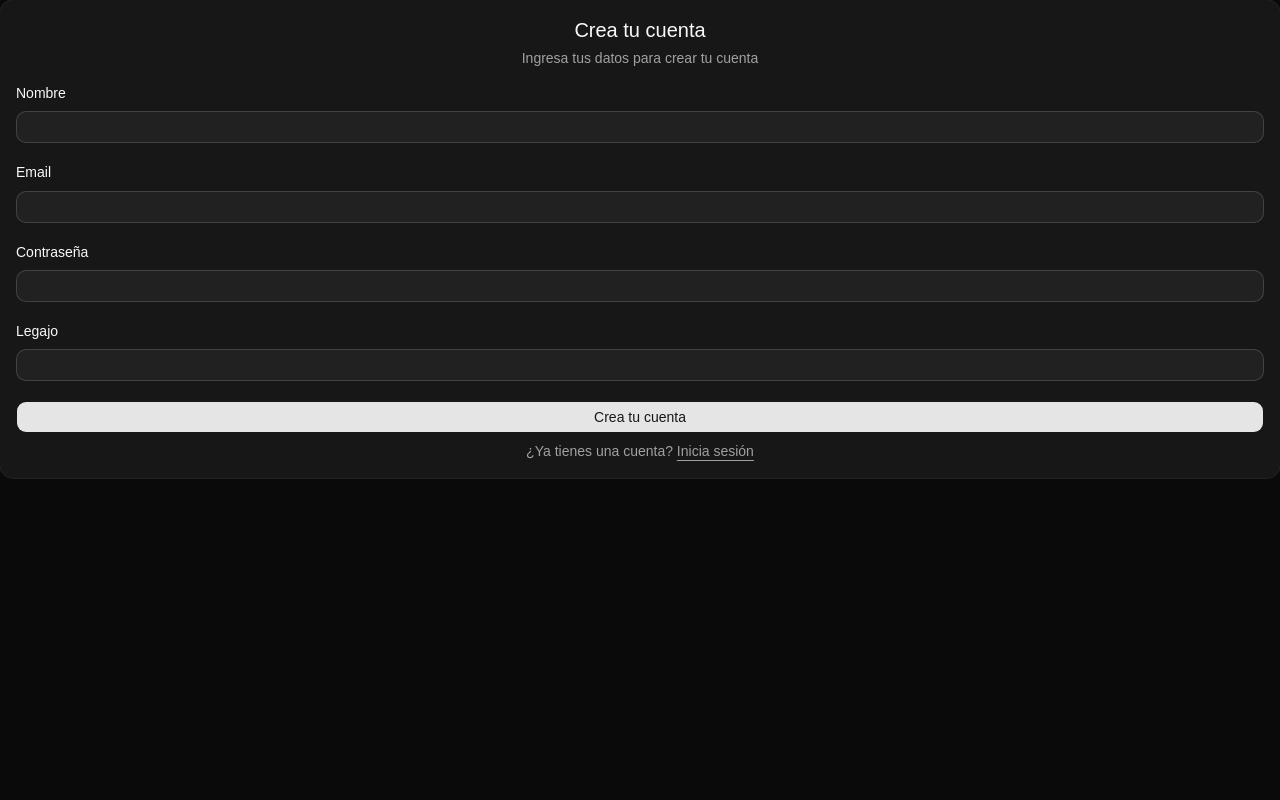
Test: valida las reglas de longitud mínima para contraseña y legajo
Step 1. Type "123" into the password field named "password" → (640, 286), box left=16, top=270, right=1264, bottom=302
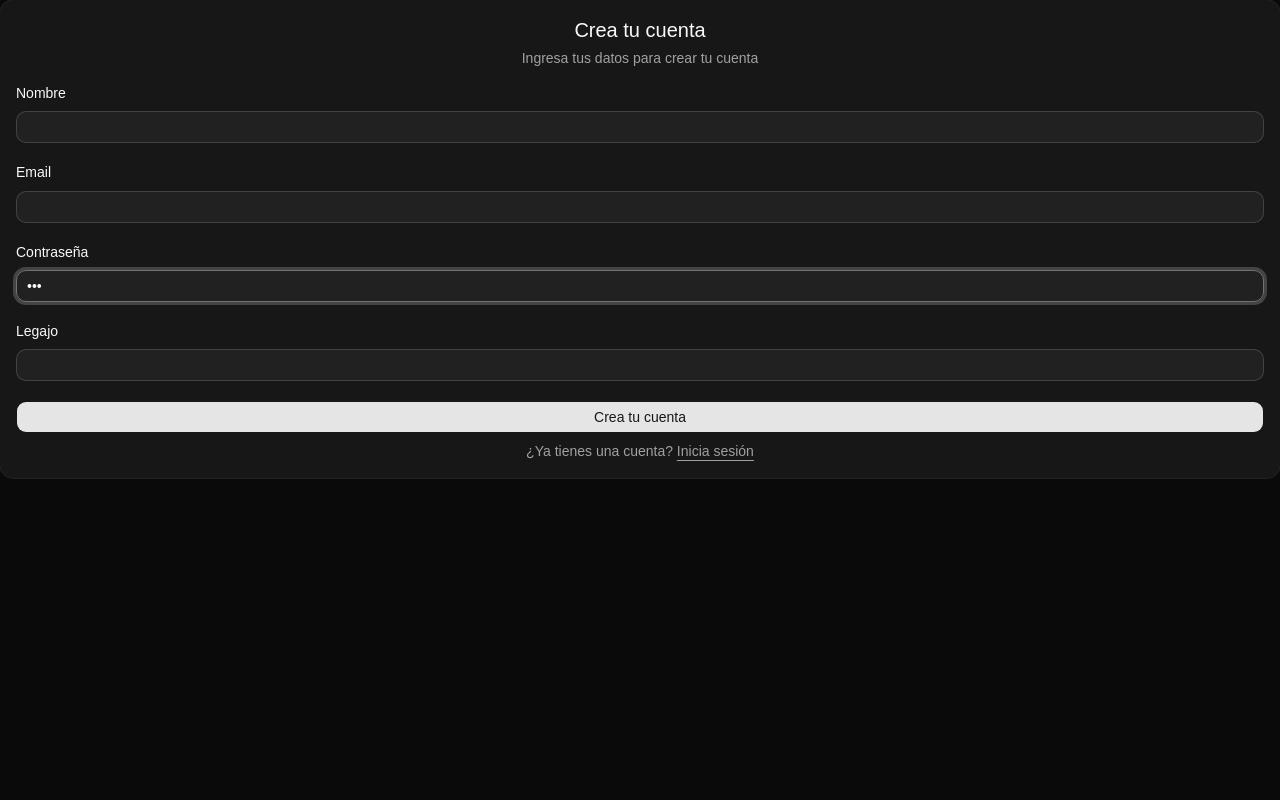
Step 2. Type "12" into the field named "legajo" below "Legajo" → (640, 365), box left=16, top=349, right=1264, bottom=381
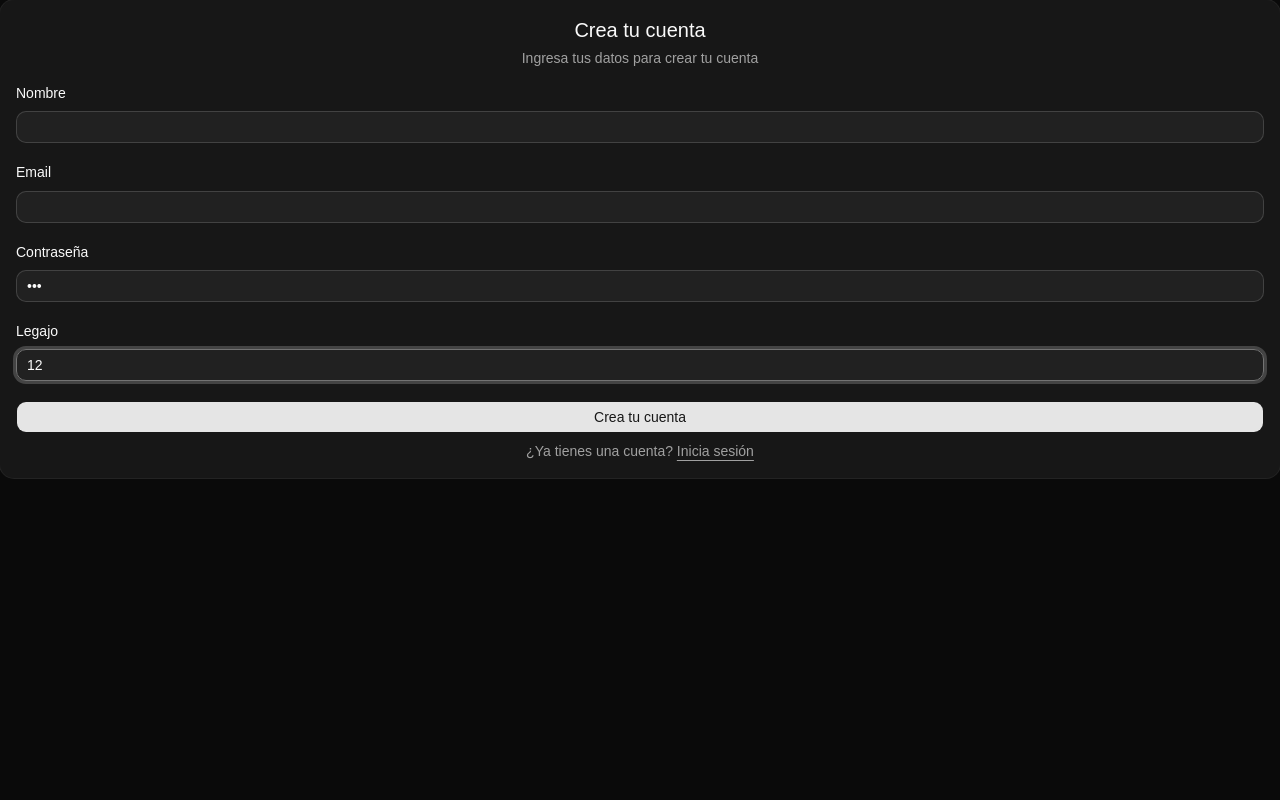
Step 3. Click the button "Crea tu cuenta" → (640, 417), box left=16, top=401, right=1264, bottom=433
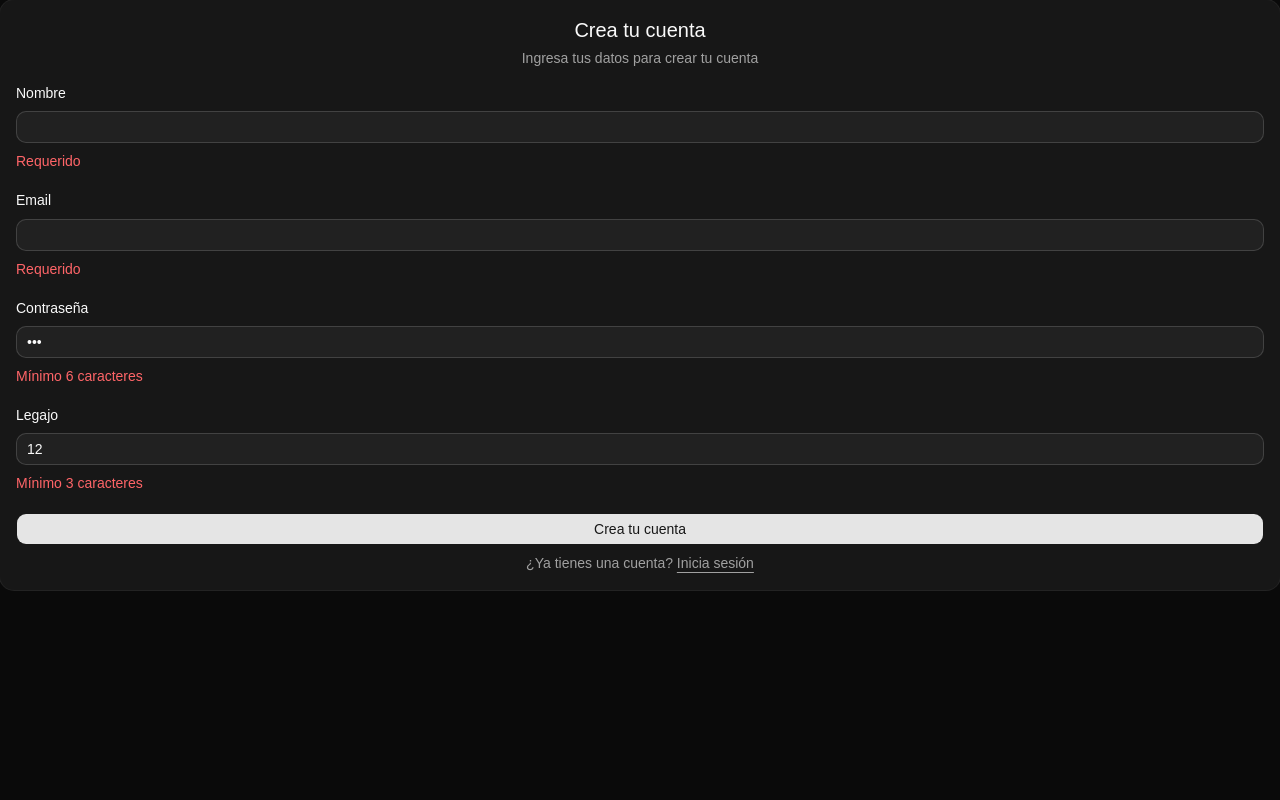
Expected: the text "Mínimo 6 caracteres" is shown, left=16, top=368, right=143, bottom=384
Expected: the text "Mínimo 3 caracteres" is shown, left=16, top=475, right=143, bottom=491
